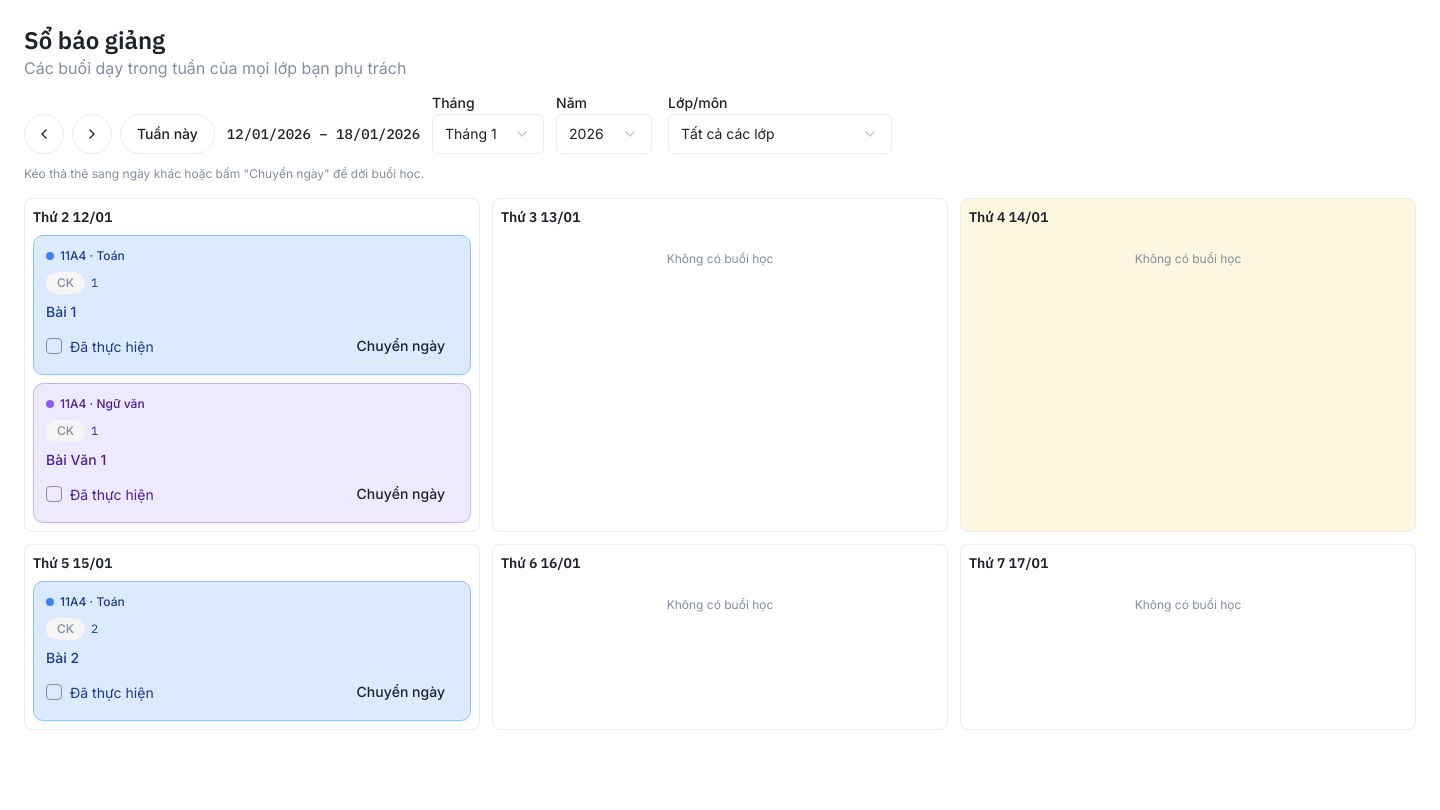
Test case: tích, kéo-thả và chuyển ngày › "Chuyển ngày" mở hộp thoại cho đúng buổi (có lớp-môn); chọn 22/01 → payload dùng positionId của buổi; thành công → thông báo
Click the button "Chuyển ngày" below "Bài Văn 1" at (401, 494), box [344, 478, 458, 510]
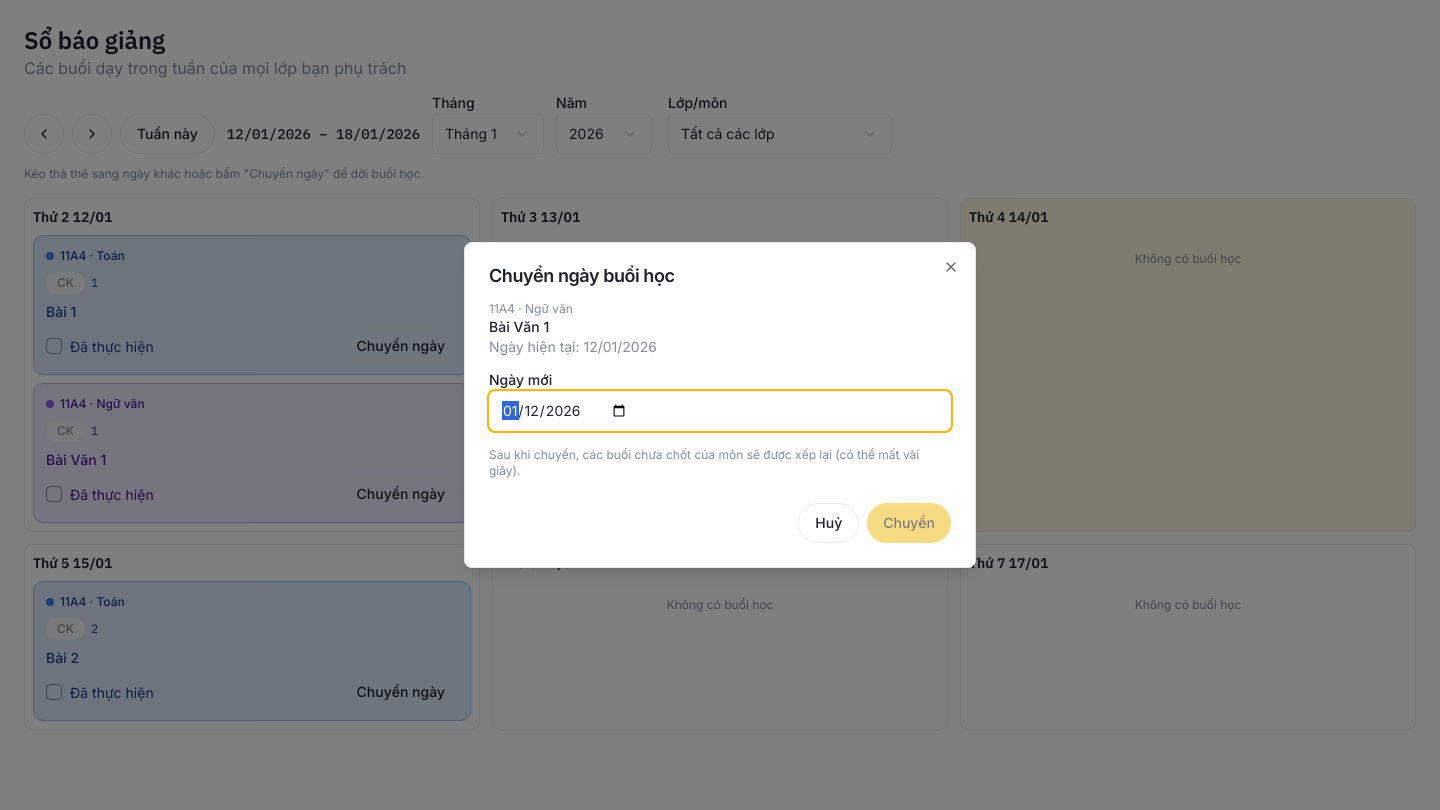
Expected: the text "Bài Văn 1" is shown, [489, 318, 549, 335]
Expected: the text "11A4 · Ngữ văn" is shown, [489, 301, 573, 316]
Expected: the date field labelled "Ngày mới" holds "2026-01-12"
Type "2026-01-22" into the date field labelled "Ngày mới" at (720, 411), box [489, 391, 951, 431]
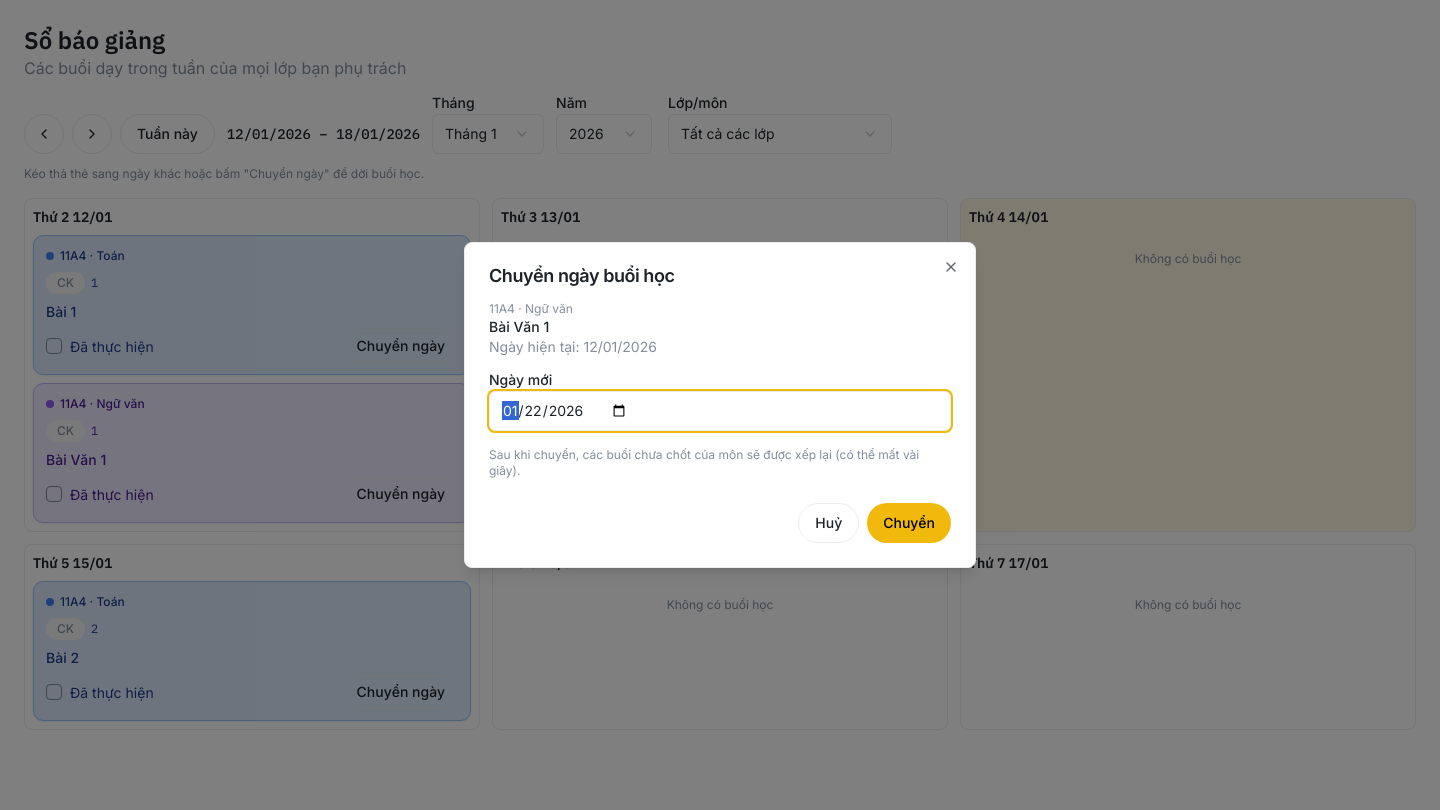
Click the button "Chuyển" at (909, 523), box [867, 503, 951, 543]
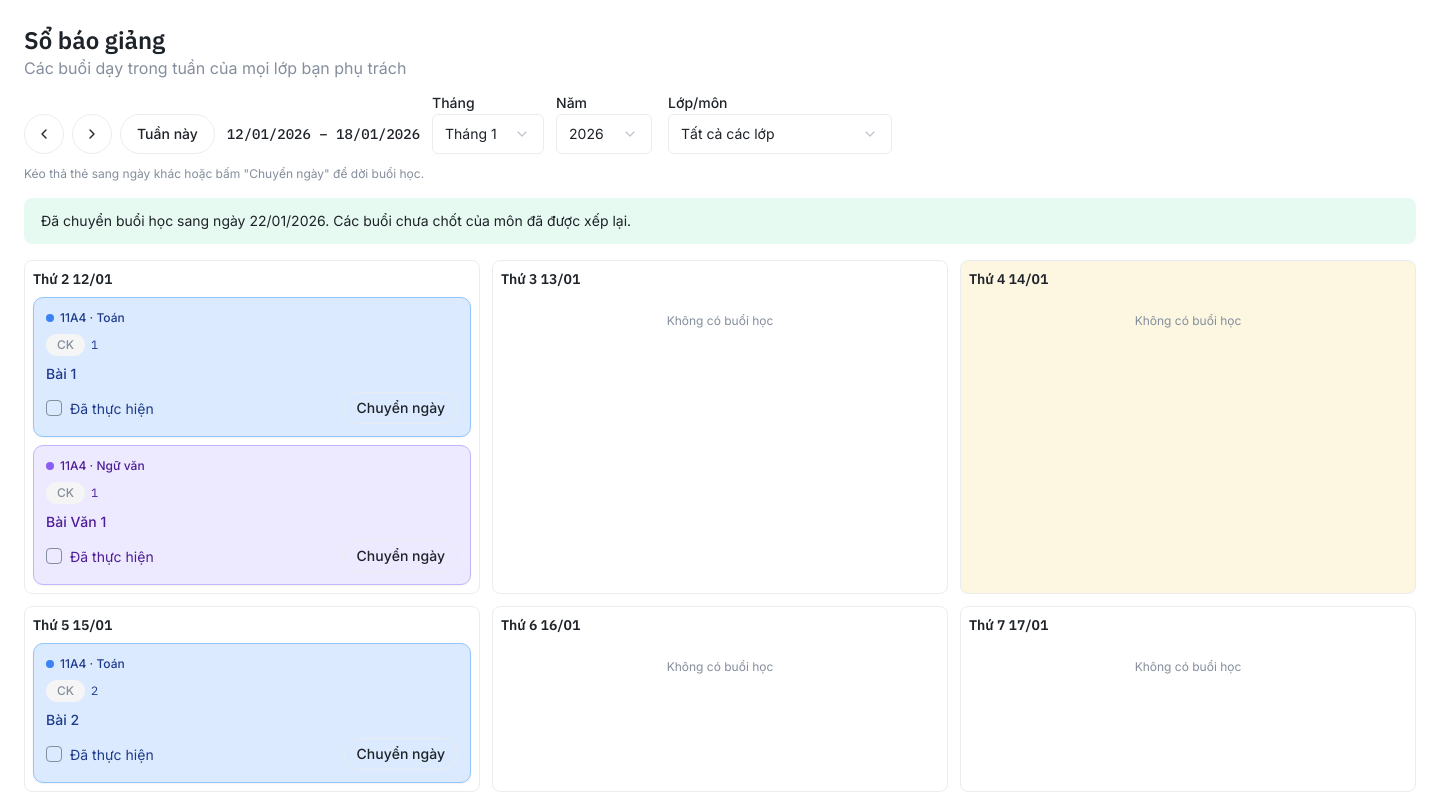
Expected: the text "Đã chuyển buổi học sang ngày 22/01/2026. Các buổi chưa chốt của môn đã được xếp lại." is shown, [41, 212, 631, 229]
Expected: the dialog is gone
